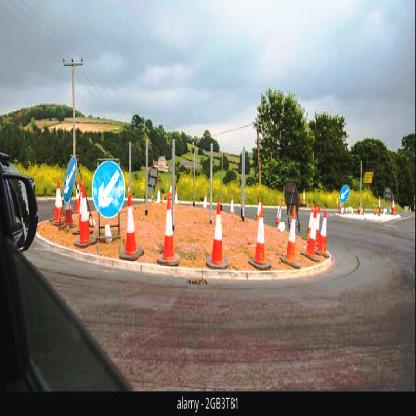Keep left: (91, 156, 129, 222), (61, 152, 78, 204), (338, 180, 351, 206)
